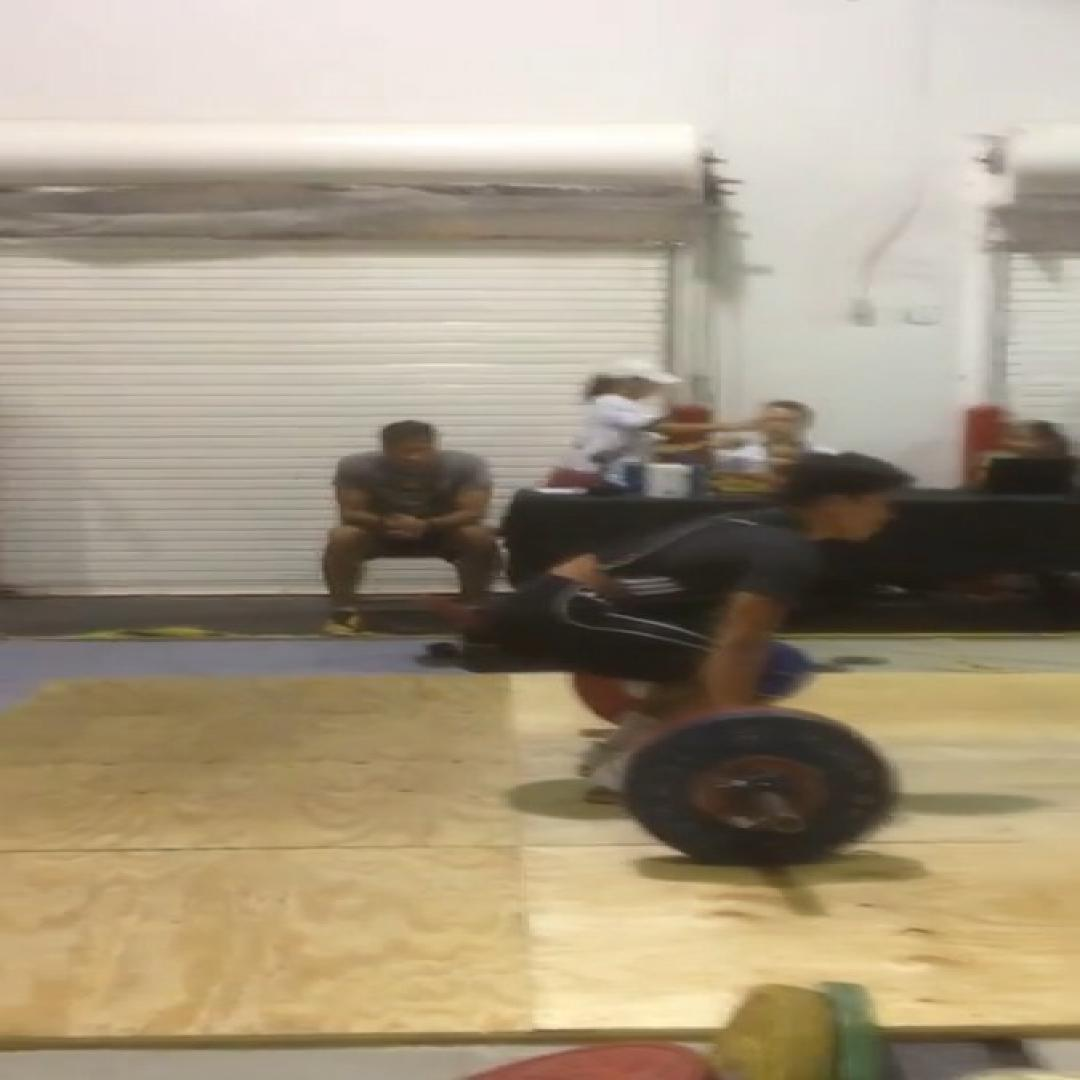Bar: (774, 814, 809, 835)
Barbell: (628, 716, 891, 864)
